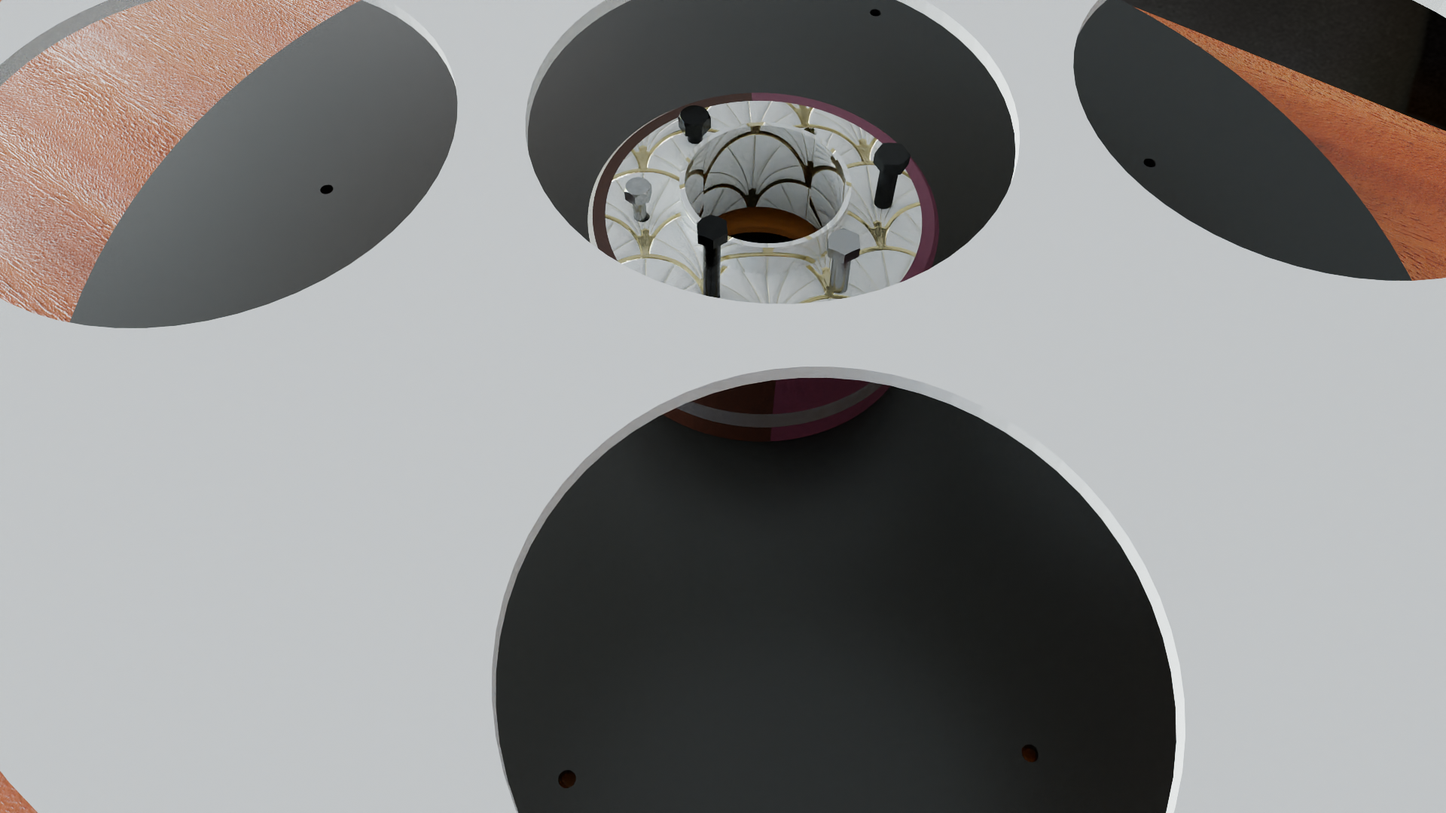bolt: (875, 142, 911, 166), (828, 228, 860, 255), (697, 215, 728, 241), (678, 105, 711, 128), (624, 177, 651, 198)
